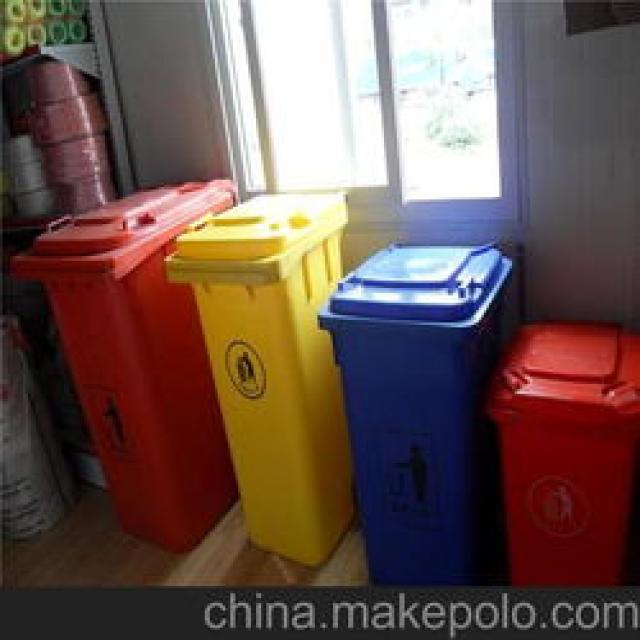garbage_bin: (10, 180, 238, 554), (164, 190, 346, 561), (315, 241, 509, 581), (484, 320, 637, 583)
